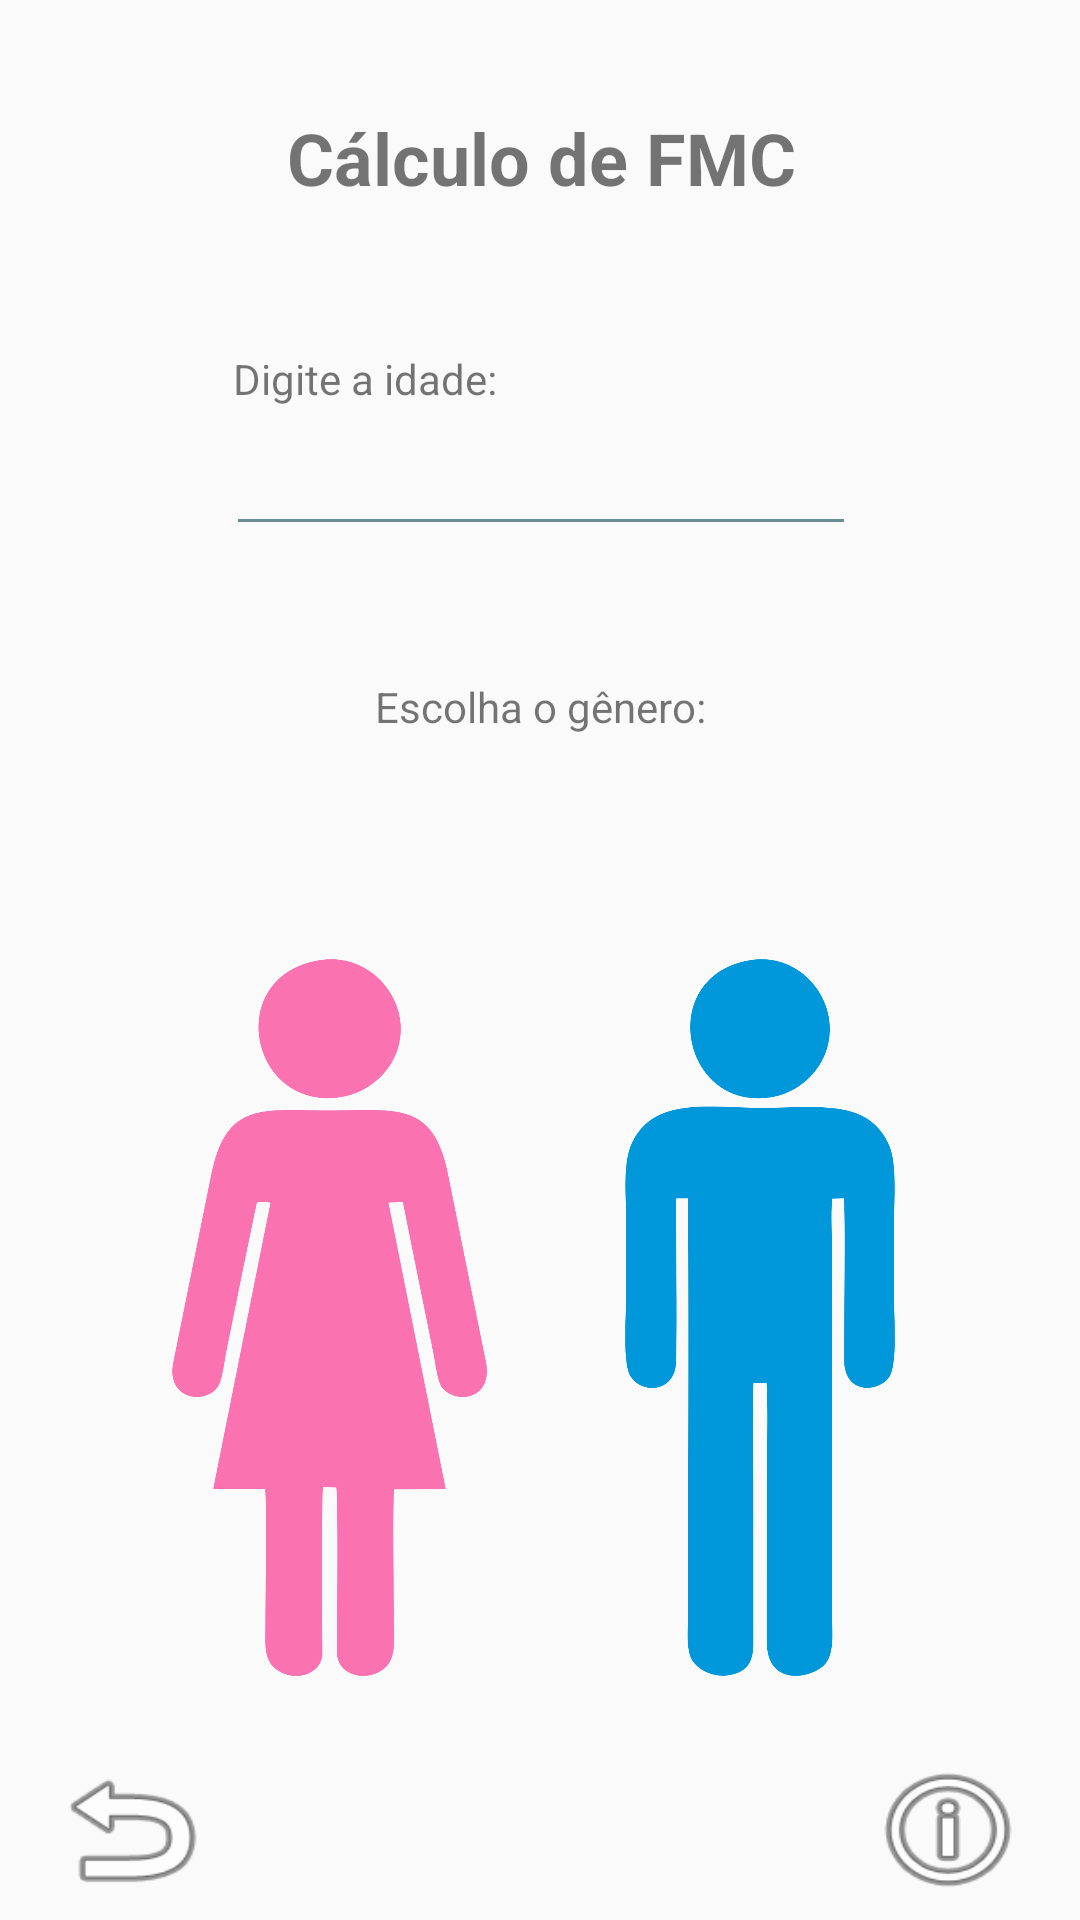

Screen size 1080 × 1920. Icon name, then its center in pixels as (x=x, y=y):
info details: (x=948, y=1830)
revert: (x=133, y=1831)
